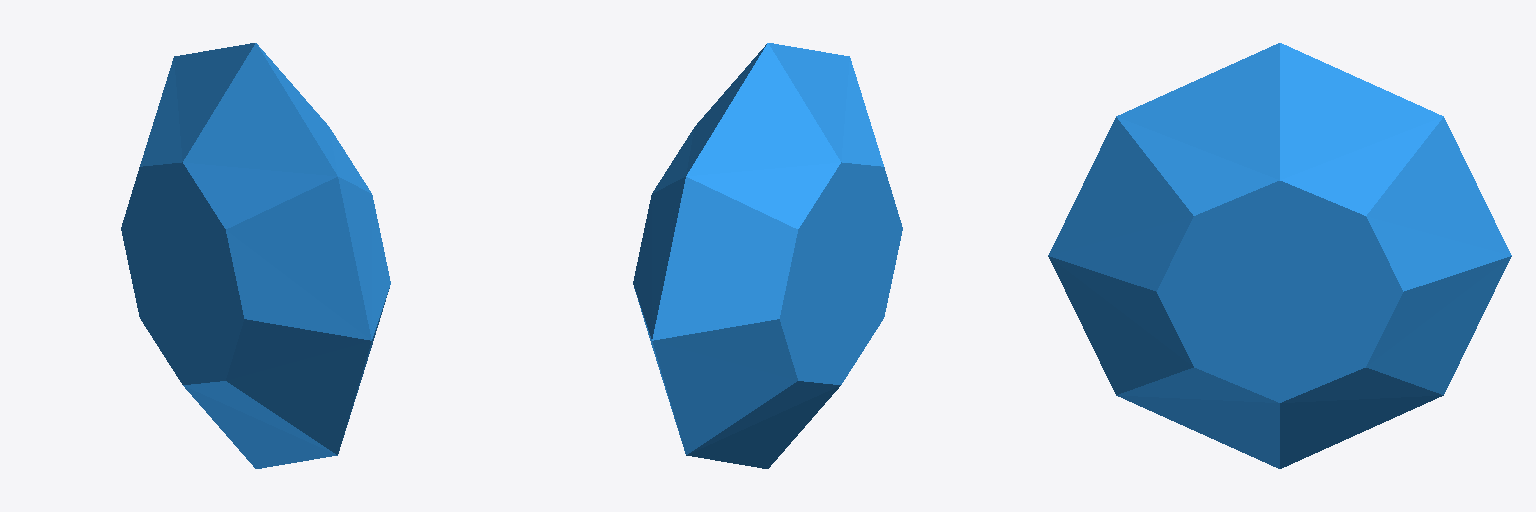
Rendered from Sapphire.obj.
The picture shows the model from 3 angles: view 1: azimuth 30°, elevation 25°; view 2: azimuth 150°, elevation 25°; view 3: azimuth 270°, elevation 25°; orthographic projection.
Visible parts, largest first — view 1: Sapphire_Plane.001; view 2: Sapphire_Plane.001; view 3: Sapphire_Plane.001.
Boxes of the visible parts, box(x1,y1,x2,y2) form: Sapphire_Plane.001: box(121, 43, 390, 468); Sapphire_Plane.001: box(633, 43, 902, 468); Sapphire_Plane.001: box(1048, 43, 1511, 468).
Size of the model in its own units: 0.3275 by 0.9113 by 0.8967.